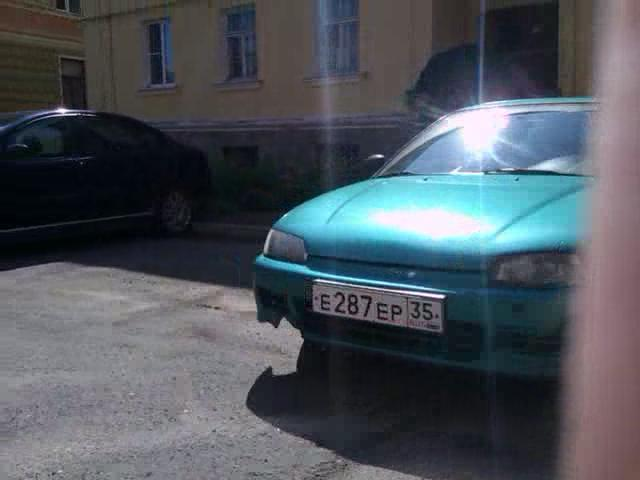car license plate: (312, 277, 446, 340)
